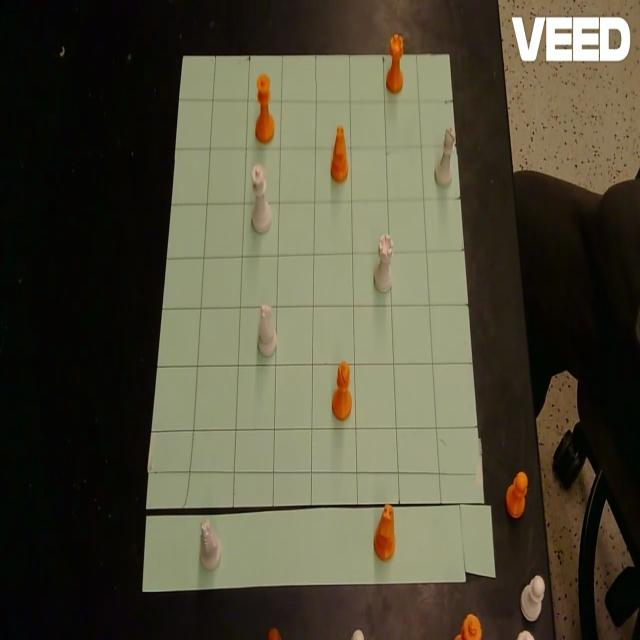orange_bishop: (332, 360, 352, 420)
orange_knight: (374, 503, 396, 561), (331, 125, 348, 183), (453, 614, 482, 640), (268, 628, 282, 640)
orange_pawn: (505, 472, 528, 520)
orange_queen: (254, 74, 274, 143)
orange_rook: (386, 32, 404, 94)
white_bishop: (435, 124, 456, 187)
white_knight: (200, 518, 222, 570), (258, 302, 277, 357)
white_pawn: (520, 576, 545, 622), (516, 629, 534, 640), (351, 629, 364, 640)
white_queen: (250, 162, 272, 234)
white_rook: (374, 233, 394, 293)
